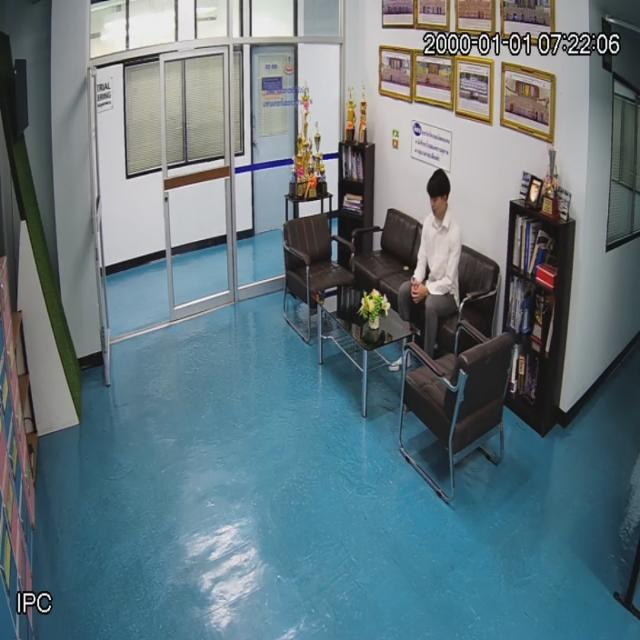normal: (401, 167, 464, 373)
